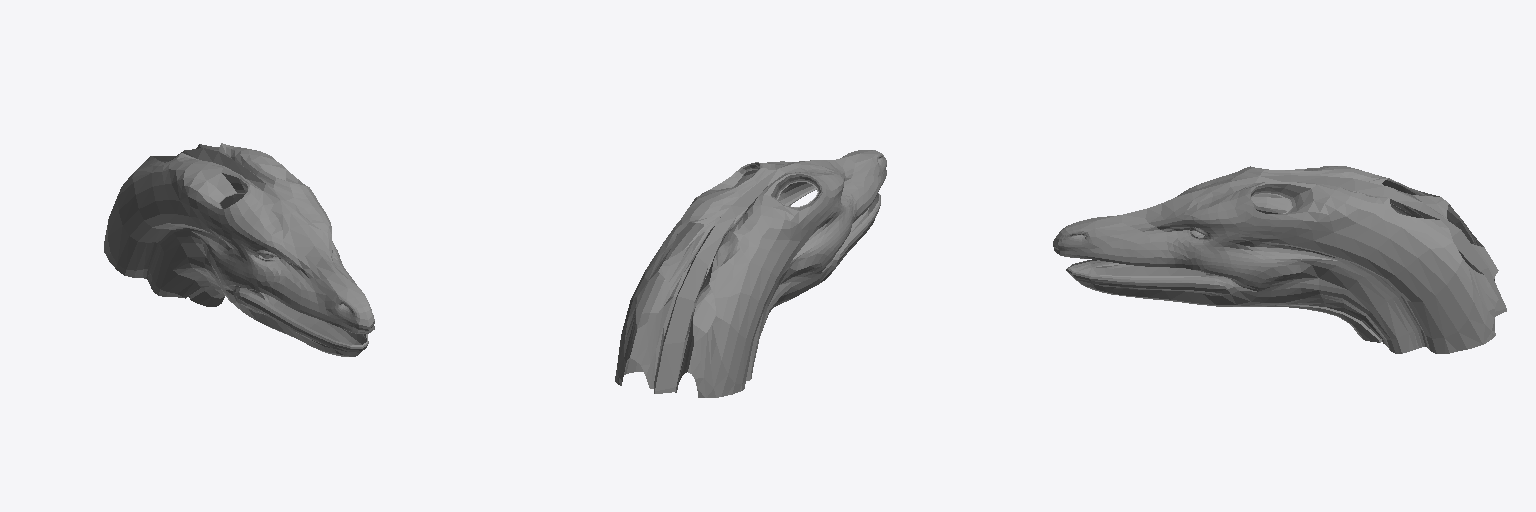
Rendered from neck_dragon_head.obj.
The picture shows the model from 3 angles: view 1: azimuth 30°, elevation 25°; view 2: azimuth 150°, elevation 25°; view 3: azimuth 270°, elevation 25°; orthographic projection.
Visible parts, largest first — view 1: Cube.001_Cube.006; view 2: Cube.001_Cube.006; view 3: Cube.001_Cube.006.
Part boxes in pixels (x1,y1,x2,y2): Cube.001_Cube.006: (104, 143, 374, 356); Cube.001_Cube.006: (615, 150, 886, 397); Cube.001_Cube.006: (1053, 166, 1506, 353).
Size of the model in its own units: 0.5624 by 0.7655 by 1.96.